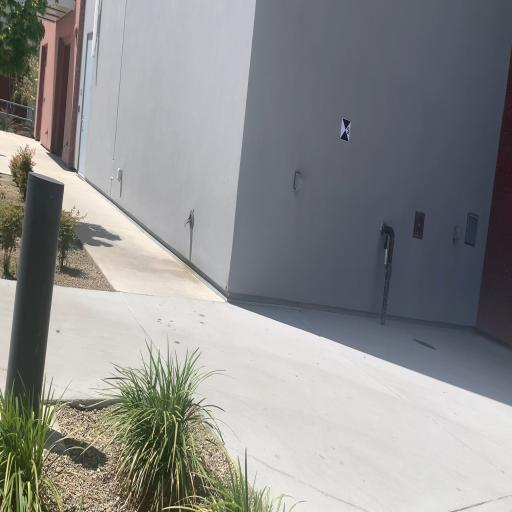target5: (340, 117, 351, 143)
